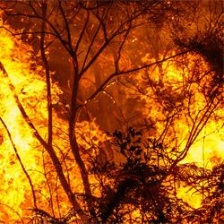fire: (153, 58, 224, 215), (2, 26, 57, 221)
